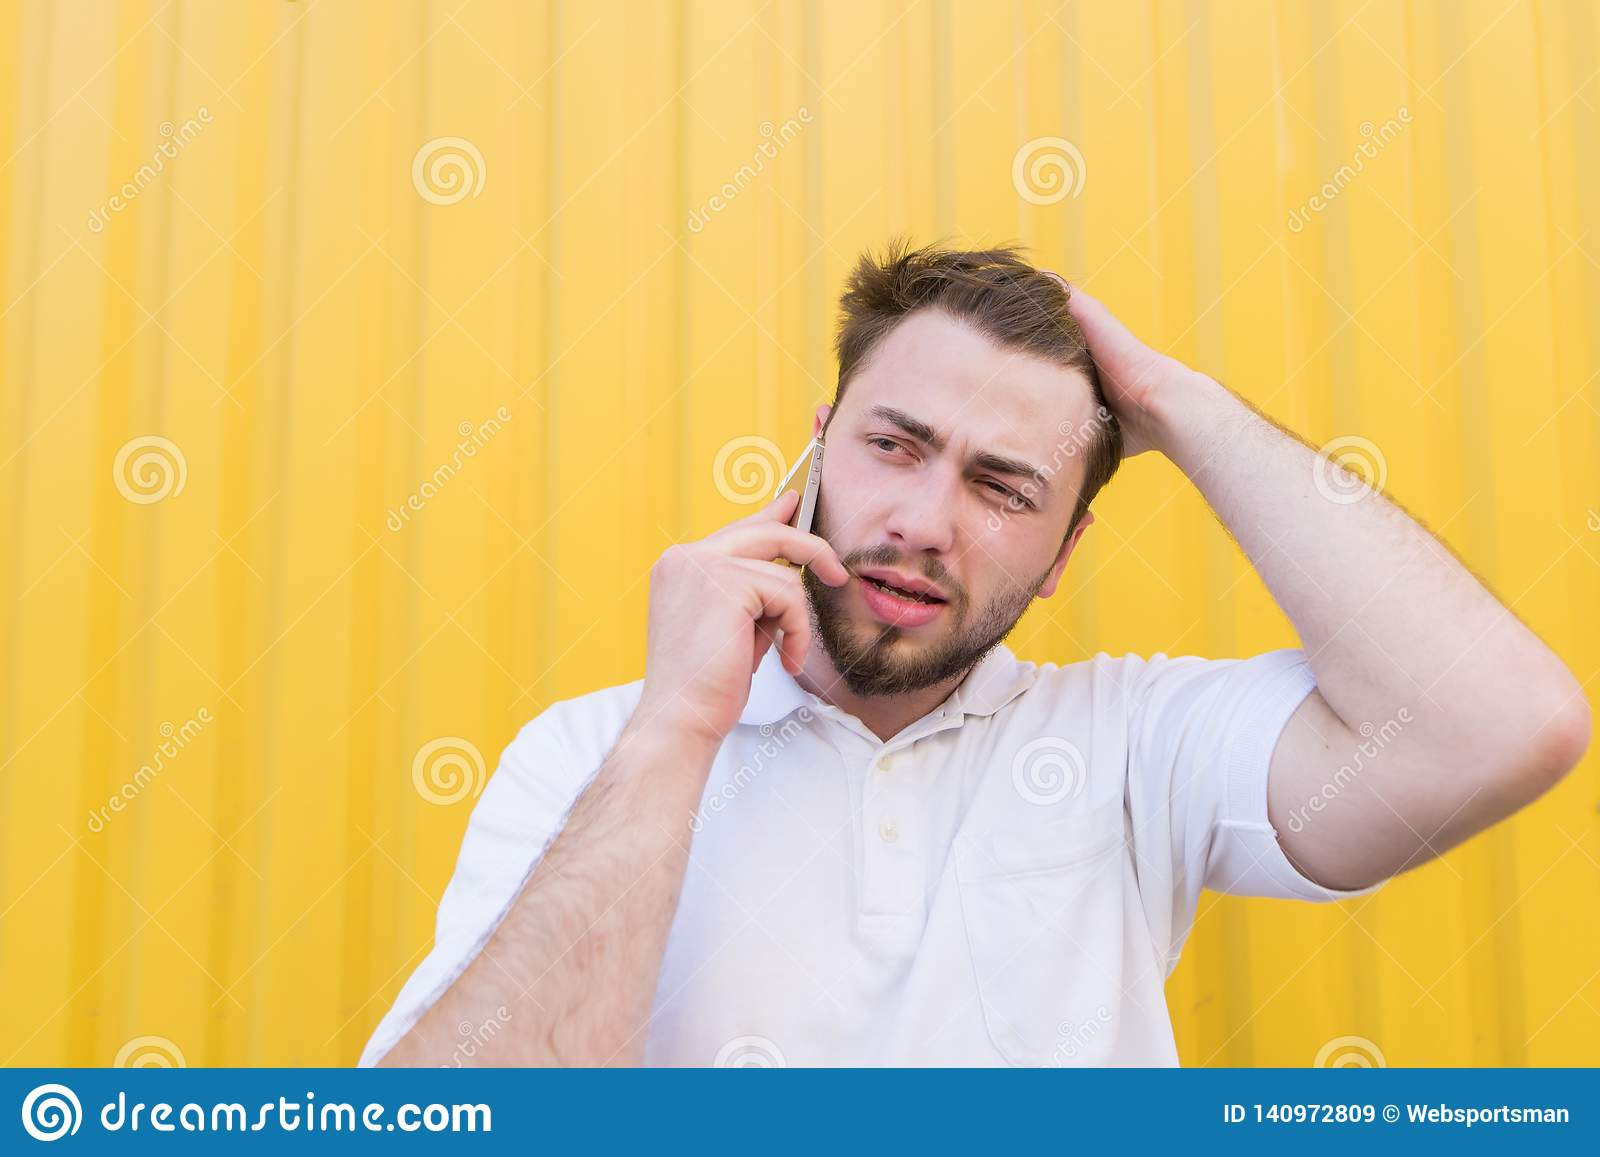phone: (737, 436, 820, 675)
talk: (648, 369, 1067, 743)
